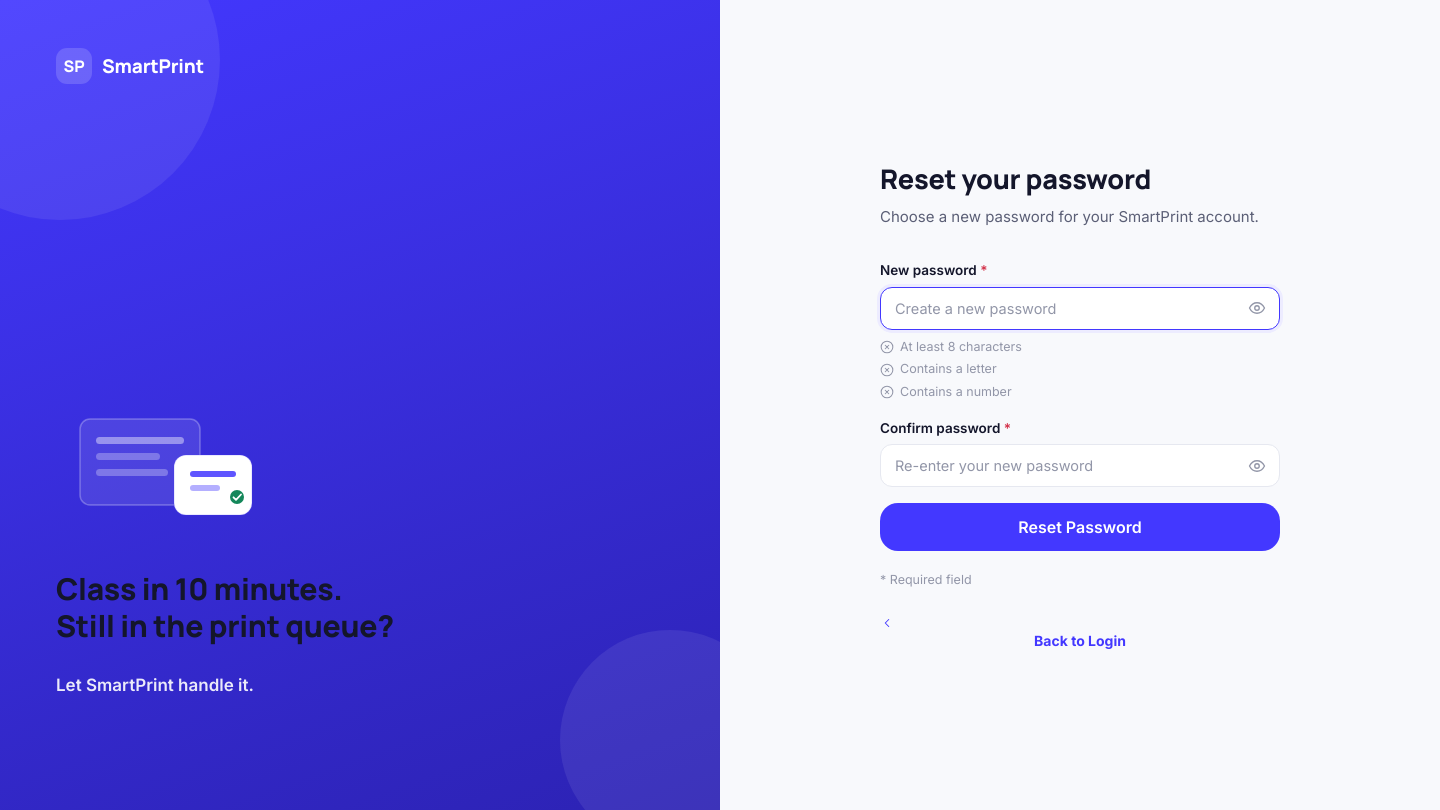
Scenario: ResetPasswordPage › shows a generic API failure message and lets the user retry
Type "GoodPassword123" into the password field labelled "New password *" at (1080,308), box [880,286,1280,330]
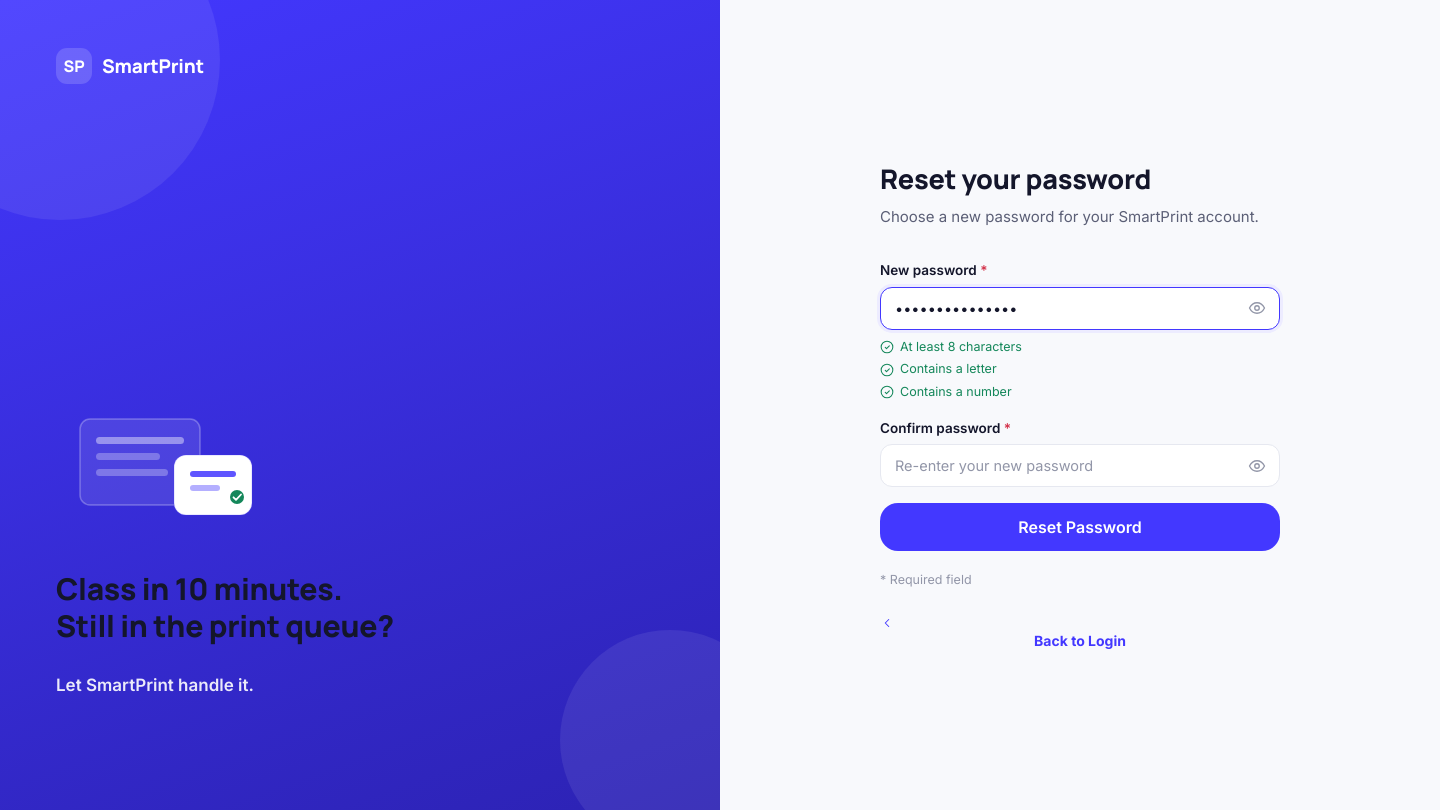
Type "GoodPassword123" into the password field labelled "Confirm password *" at (1080,466), box [880,444,1280,487]
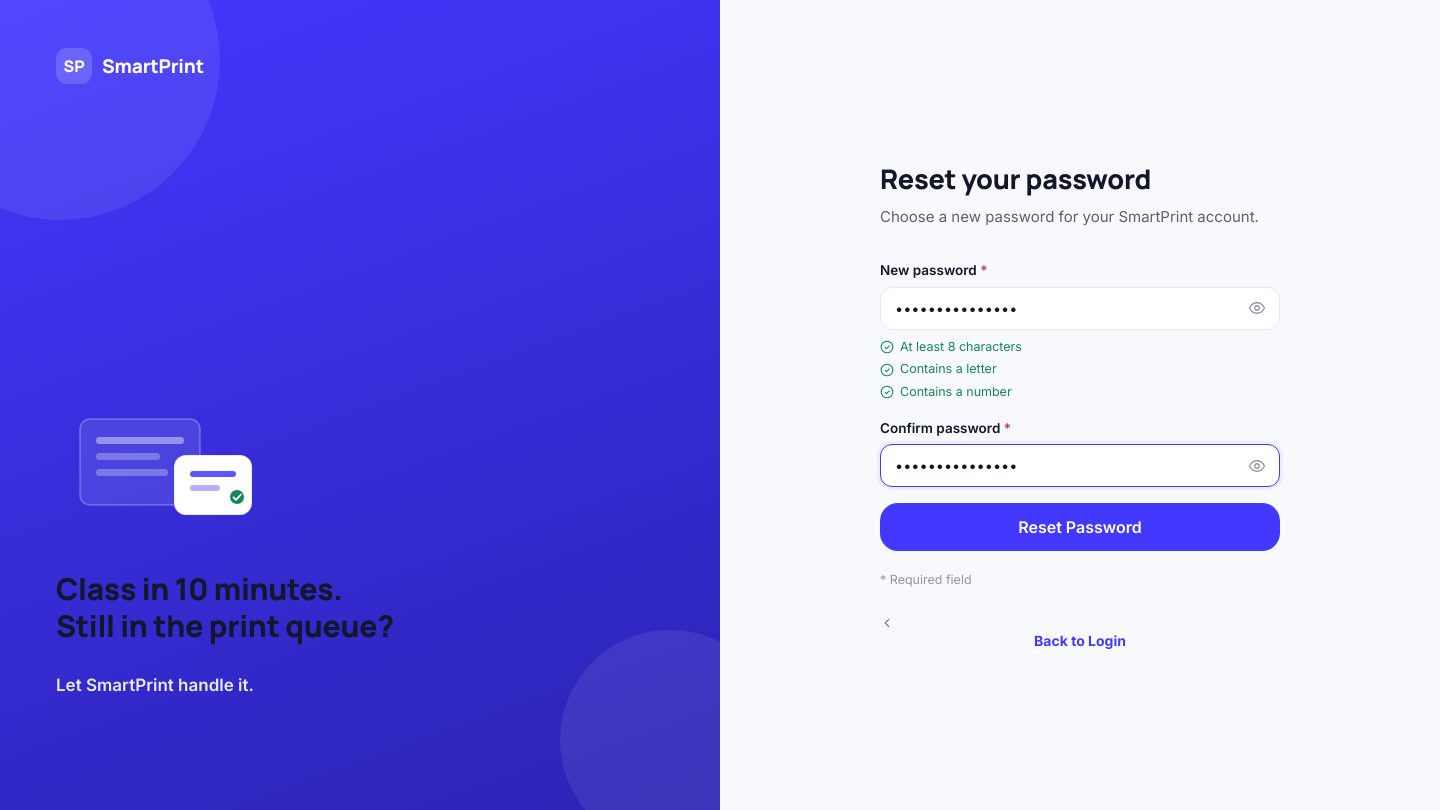
Click the button "Reset Password" at (1080,527), box [880,503,1280,551]
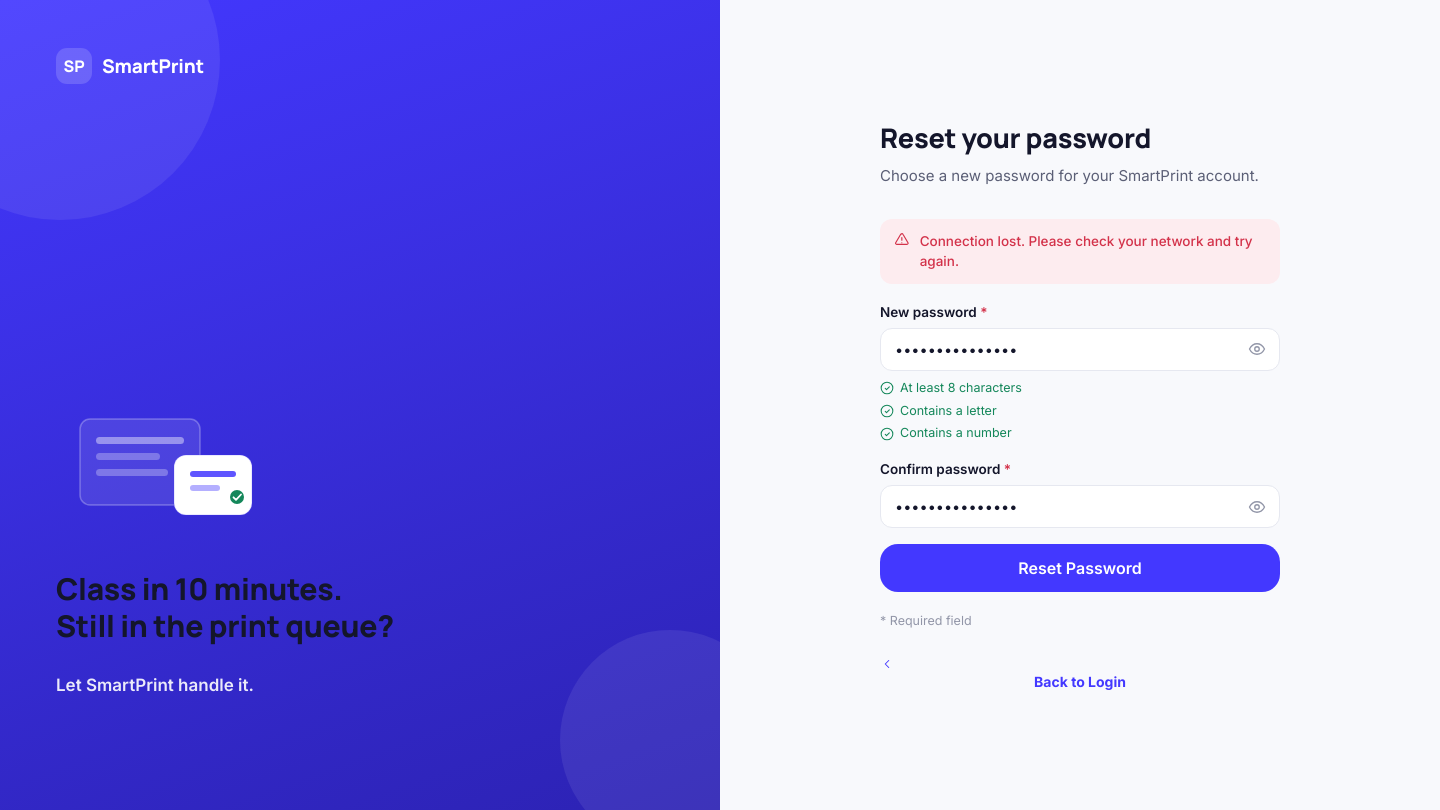
Expected: the button "Reset Password" is shown, [880,544,1280,592]
Expected: the message shows "Connection lost", [920,233,1253,269]
